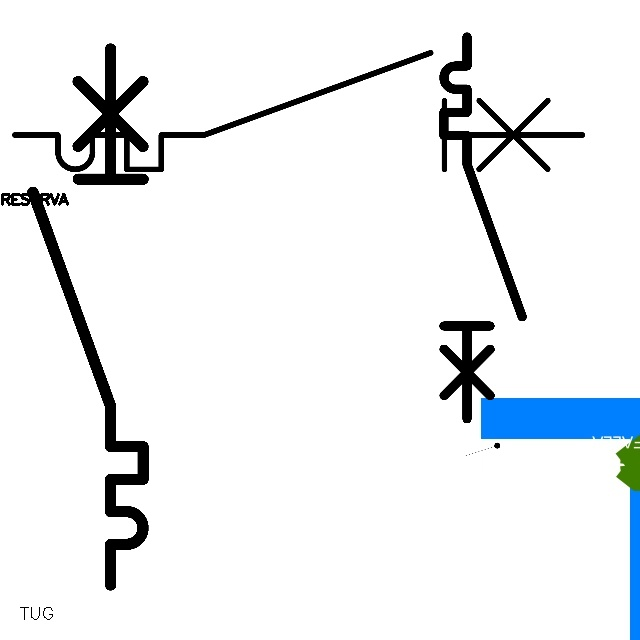interruptor_termomagnetico: (0, 38, 597, 184), (19, 35, 157, 599), (434, 27, 532, 428)
